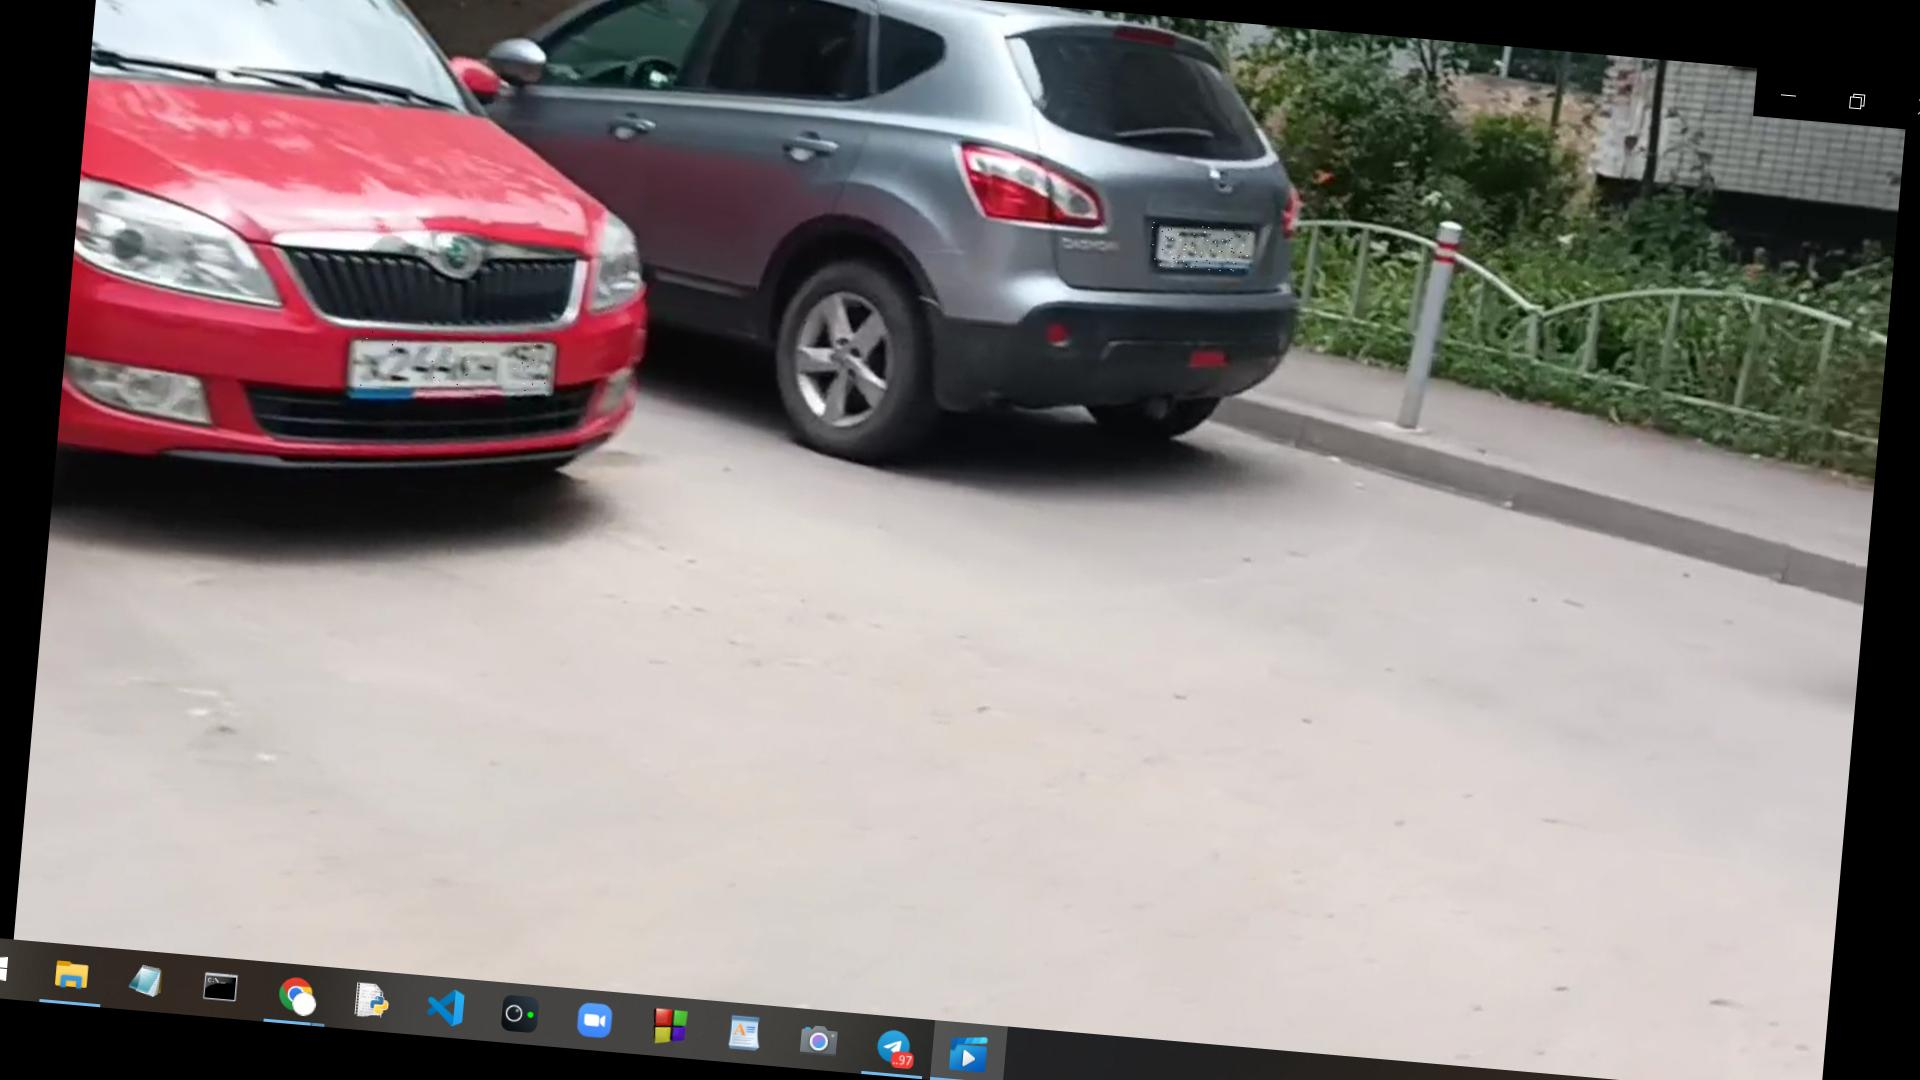plate: (351, 329, 551, 403), (1151, 223, 1252, 274)
